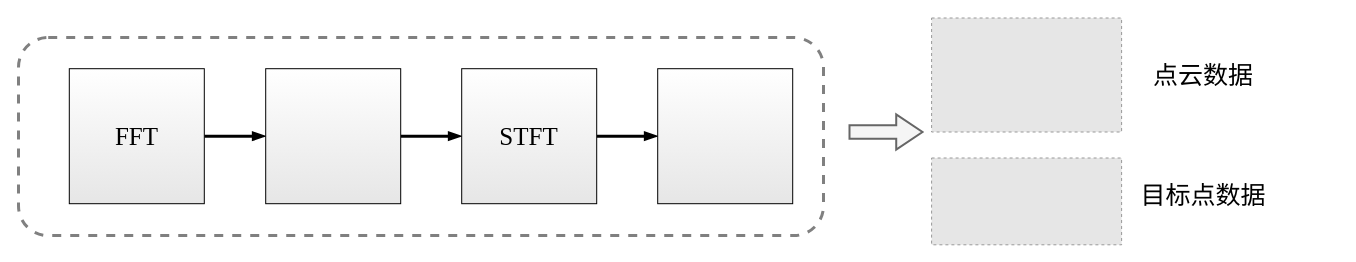
Image size: 1356x262. Some labels were removed from this diagram. Grey dashed boxes stand in for pictures. Each missing label, with the centre of its shape:
"BW Filter" goes at [333,136].
"EKF" goes at [725,136].
